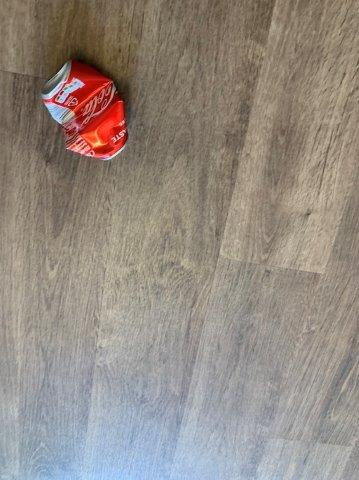kaleng: (42, 60, 129, 158)
